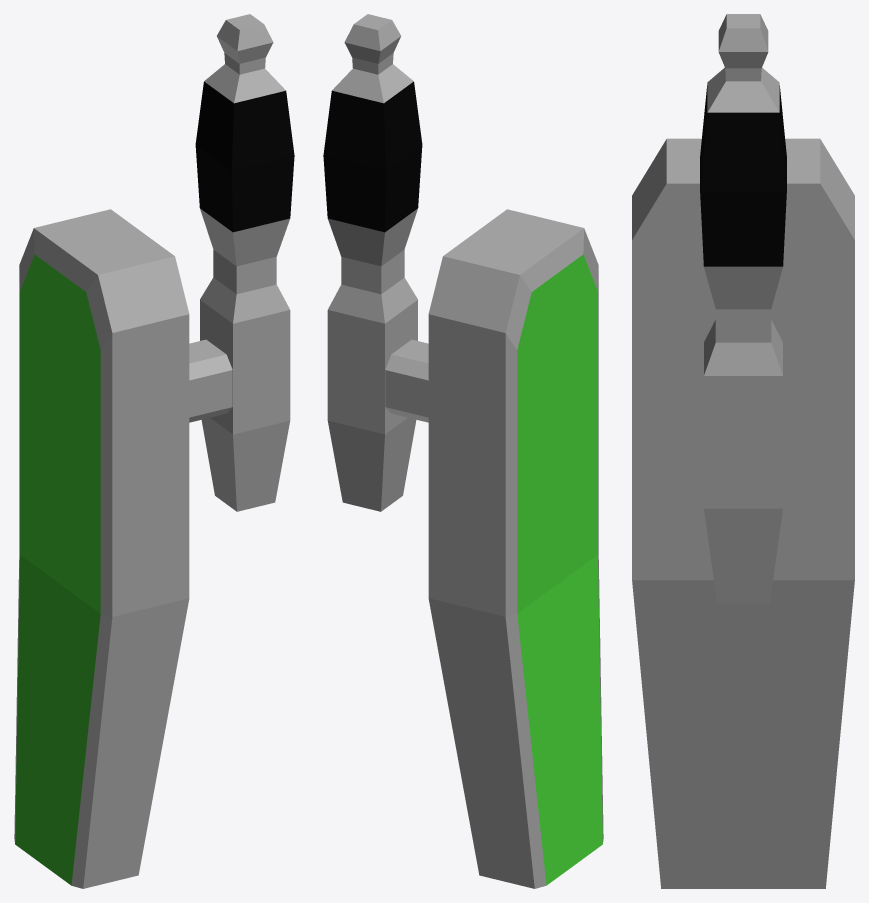
The model's file is prop_hana.fbx.
3 renders of one model, left to right at view 1: azimuth 30°, elevation 25°; view 2: azimuth 150°, elevation 25°; view 3: azimuth 270°, elevation 25°, orthographic. The views are drawn at different scales.
Parts seen in each view (by area): view 1: Cube; view 2: Cube; view 3: Cube.
Boxes of the visible parts, box(x1,y1,x2,y2) form: Cube: box(14, 14, 294, 888); Cube: box(323, 14, 603, 888); Cube: box(632, 14, 854, 888).
Size of the model in its own units: 57.11 by 186 by 39.51.
